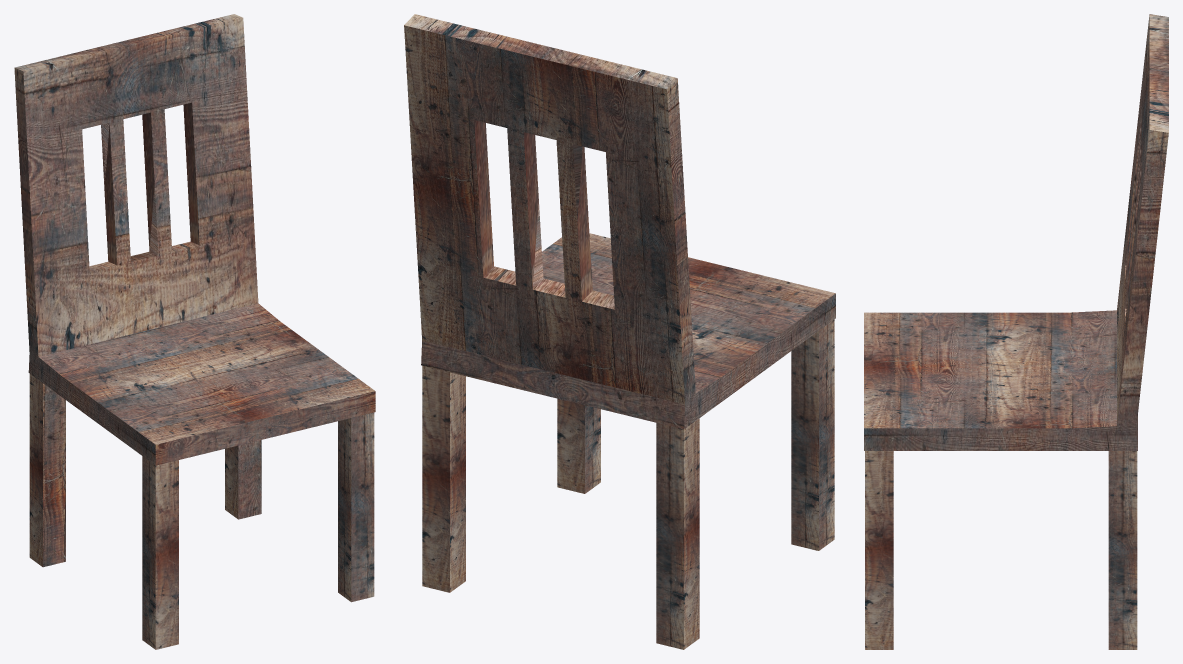
File: chair.fbx
3 renders of one model, left to right at view 1: azimuth 30°, elevation 25°; view 2: azimuth 150°, elevation 25°; view 3: azimuth 270°, elevation 25°, orthographic. The views are drawn at different scales.
Parts seen in each view (by area): view 1: Chair.008; view 2: Chair.008; view 3: Chair.008.
Boxes of the visible parts, left/top/right/bottom form: Chair.008: left=14, top=14, right=375, bottom=649; Chair.008: left=404, top=14, right=835, bottom=649; Chair.008: left=864, top=14, right=1168, bottom=649.
Bounding box in the file's own units: 51.74 × 108 × 57.56.
